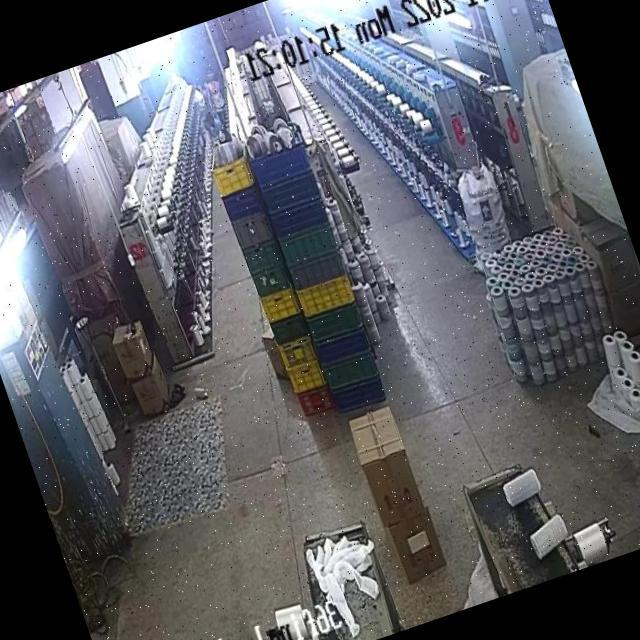person: (200, 65, 231, 118), (195, 112, 219, 148), (204, 110, 221, 136)
